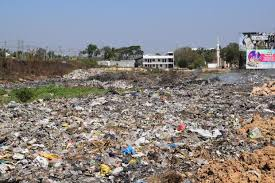garbage: (10, 101, 248, 183), (114, 76, 252, 183), (65, 73, 185, 88)
